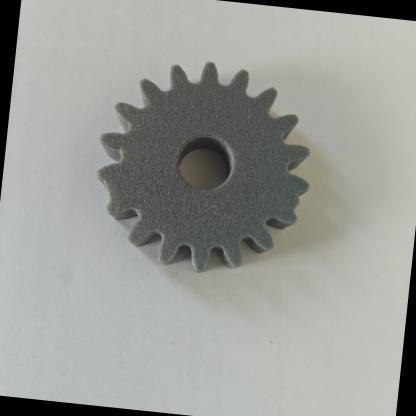defect: (250, 158, 338, 260), (80, 146, 170, 238)
gear: (74, 42, 350, 290)
